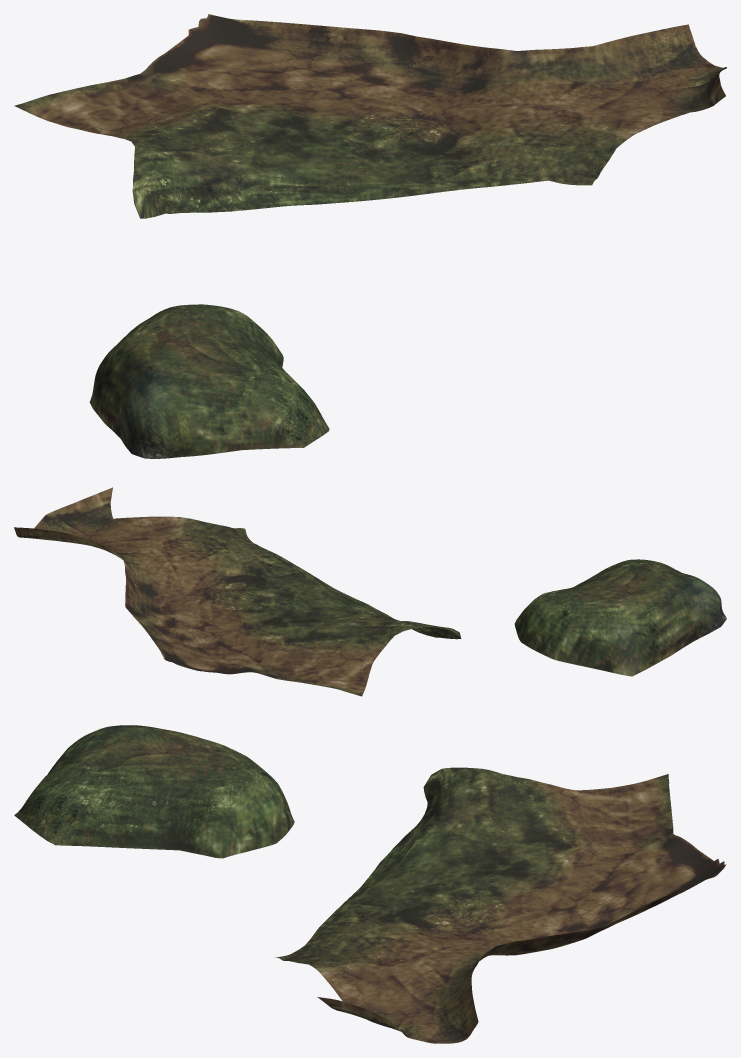
The picture shows the model from 3 angles, top to bottom: view 1: azimuth 30°, elevation 25°; view 2: azimuth 150°, elevation 25°; view 3: azimuth 270°, elevation 25°; orthographic projection. The views are drawn at different scales.
Visible parts, largest first — view 1: tile2_s9; view 2: tile2_s9; view 3: tile2_s9.
Part boxes in pixels (x1,y1,x2,y2): tile2_s9: [14, 14, 726, 458]; tile2_s9: [14, 487, 726, 696]; tile2_s9: [14, 725, 726, 1043].
Bounding box in the file's own units: 149 × 22.66 × 129.
